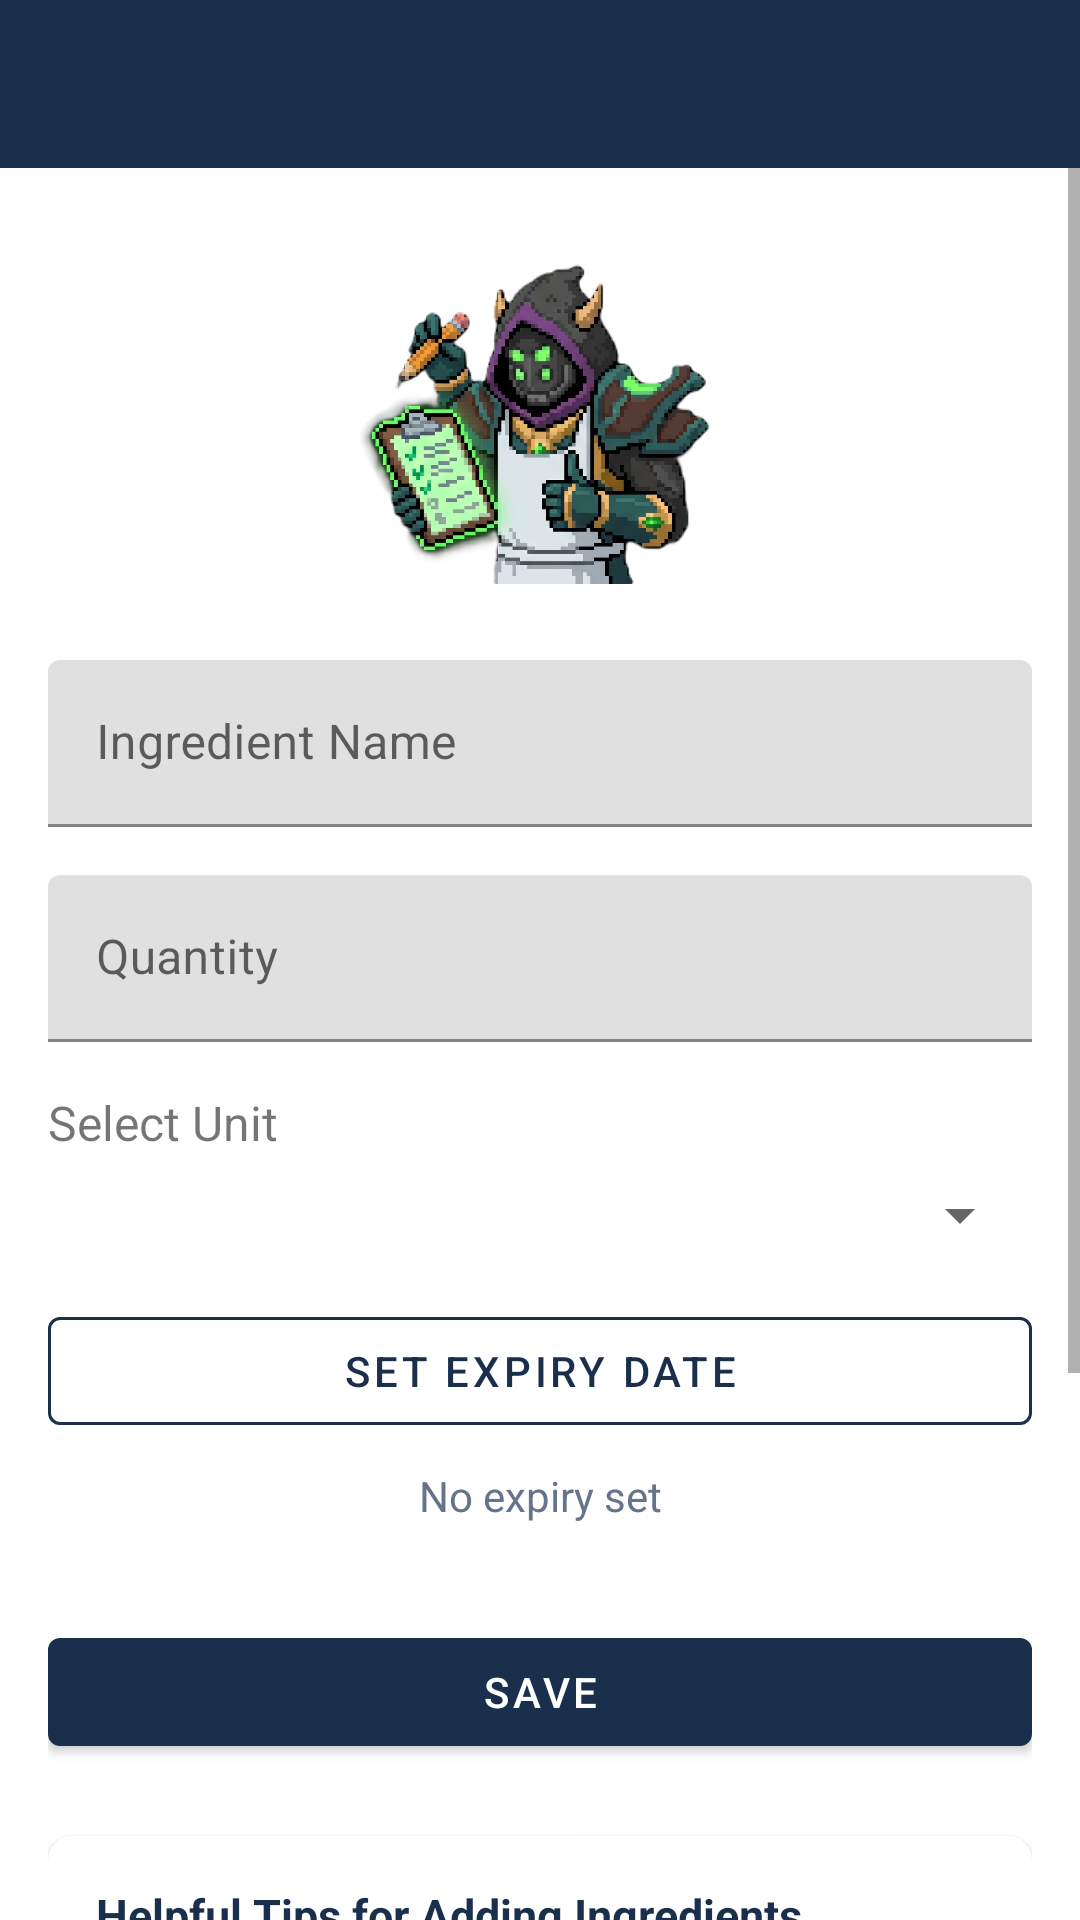

Locate icon controls on the screen. Image size 1080px x 1920px, boxes as box=[x1, y1, x2, y2].
Ingredient Checklist: box=[363, 265, 709, 584]
